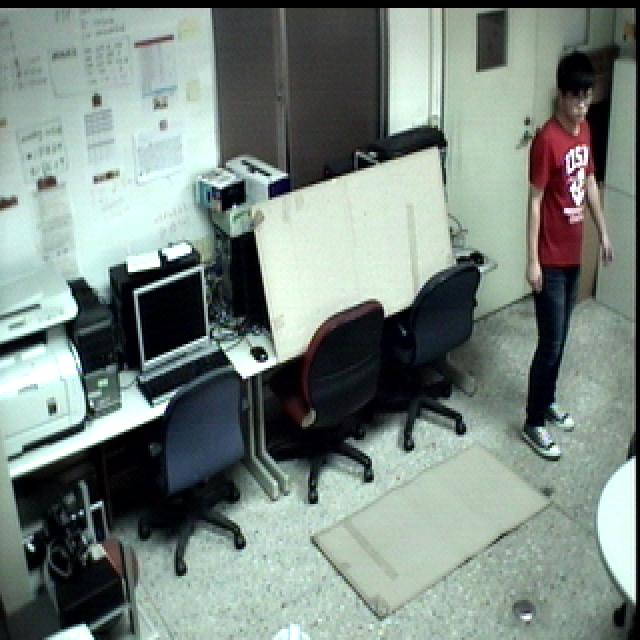stand: (520, 44, 617, 463)
